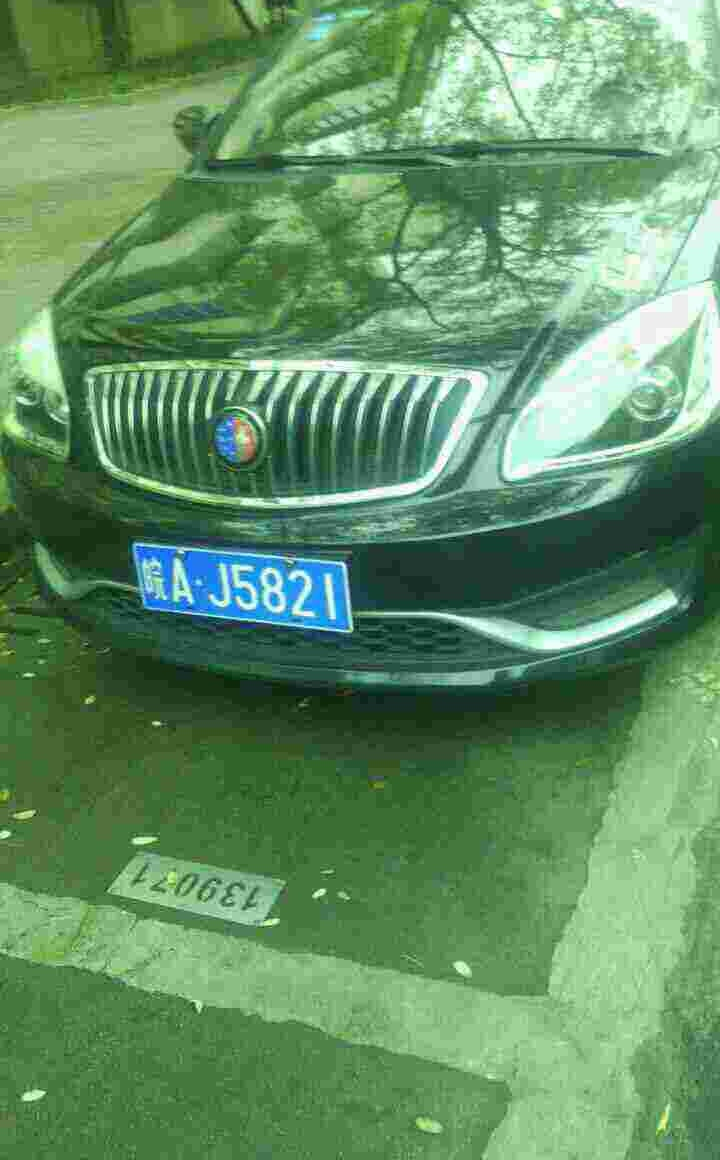license_plate: (132, 545, 347, 637)
